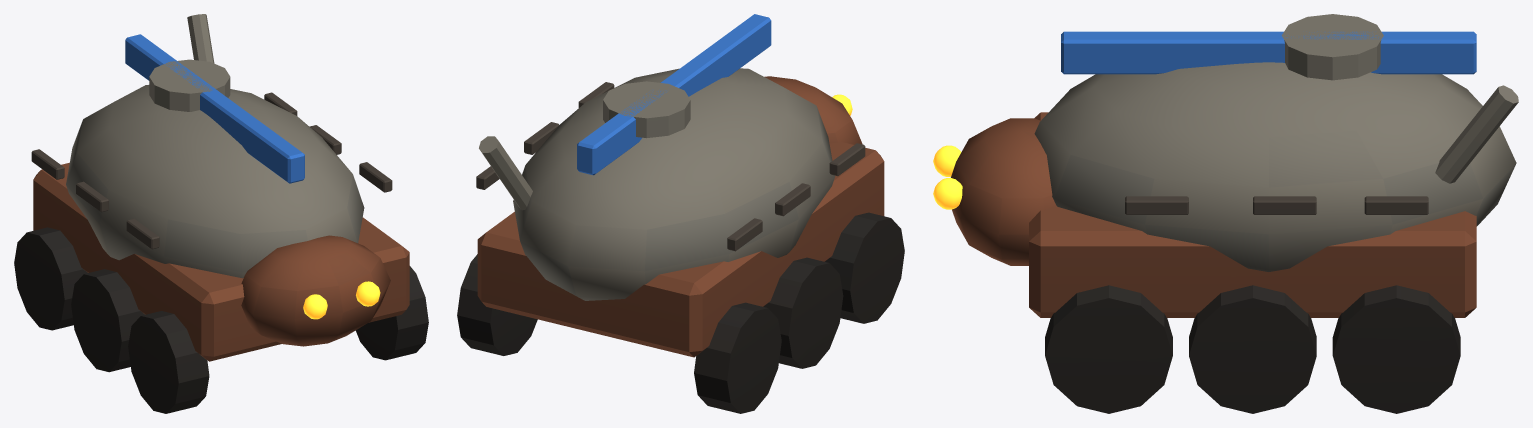
File: scarabee.glb
The picture shows the model from 3 angles, left to right: view 1: azimuth 30°, elevation 25°; view 2: azimuth 150°, elevation 25°; view 3: azimuth 270°, elevation 25°; orthographic projection. The views are drawn at different scales.
Parts seen in each view (by area): view 1: scarabee; view 2: scarabee; view 3: scarabee.
Part boxes in pixels (x1,y1,x2,y2): scarabee: (14,14,428,413); scarabee: (457,14,904,413); scarabee: (933,14,1518,413).
Bounding box in the file's own units: 1.14 × 1.04 × 1.83.
